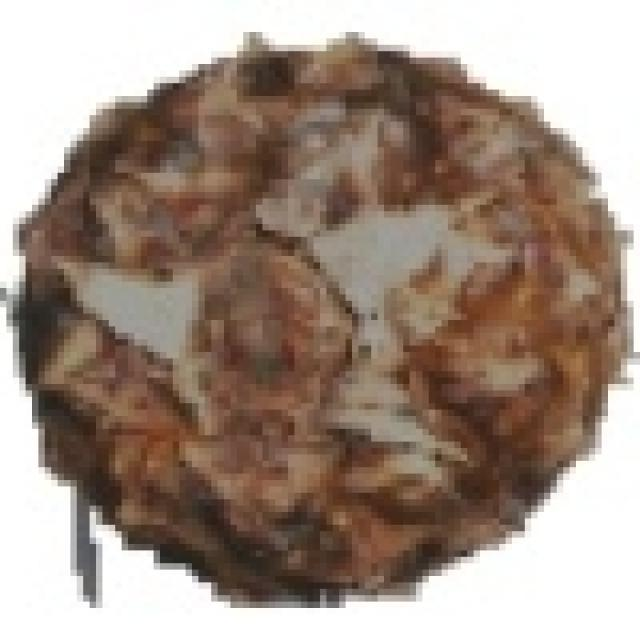pineapple: (32, 32, 634, 589)
